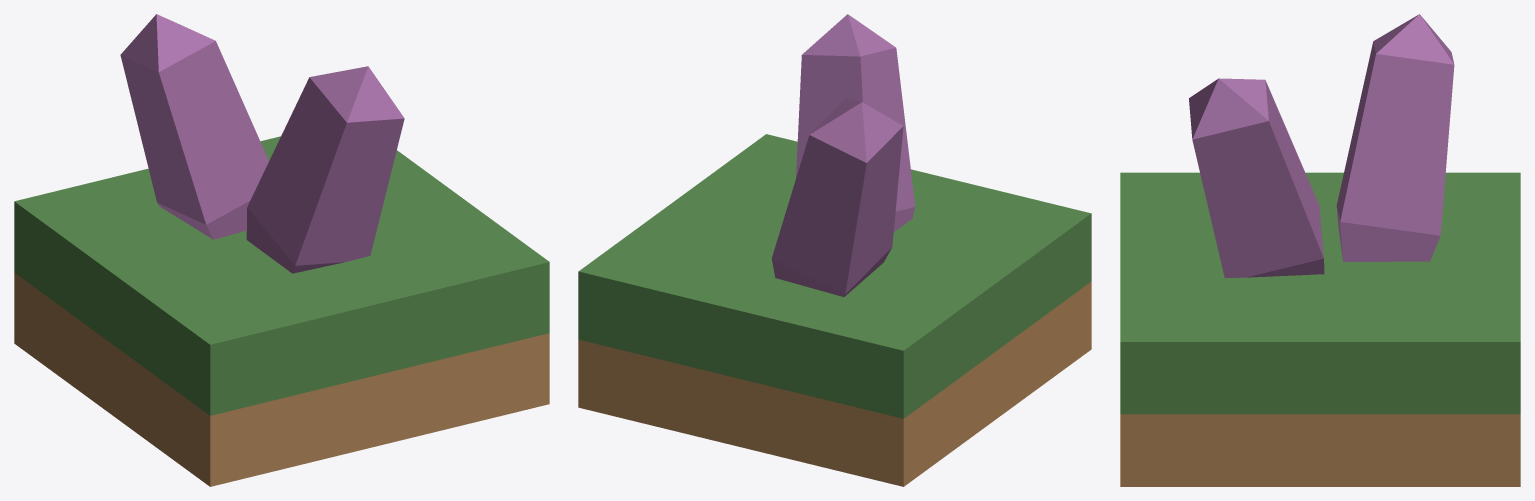
The model's file is tile_076.fbx.
3 views of the same model, side by side, from view 1: azimuth 30°, elevation 25°; view 2: azimuth 150°, elevation 25°; view 3: azimuth 270°, elevation 25° (orthographic). The views are drawn at different scales.
Visible parts, largest first — view 1: Group (×3); view 2: Group (×3); view 3: Group (×3).
Boxes of the visible parts, left/top/right/bottom form: Group (×3): left=14, top=14, right=549, bottom=486; Group (×3): left=578, top=14, right=1091, bottom=486; Group (×3): left=1120, top=14, right=1520, bottom=486.
Bounding box in the file's own units: 10 × 9.65 × 10.
